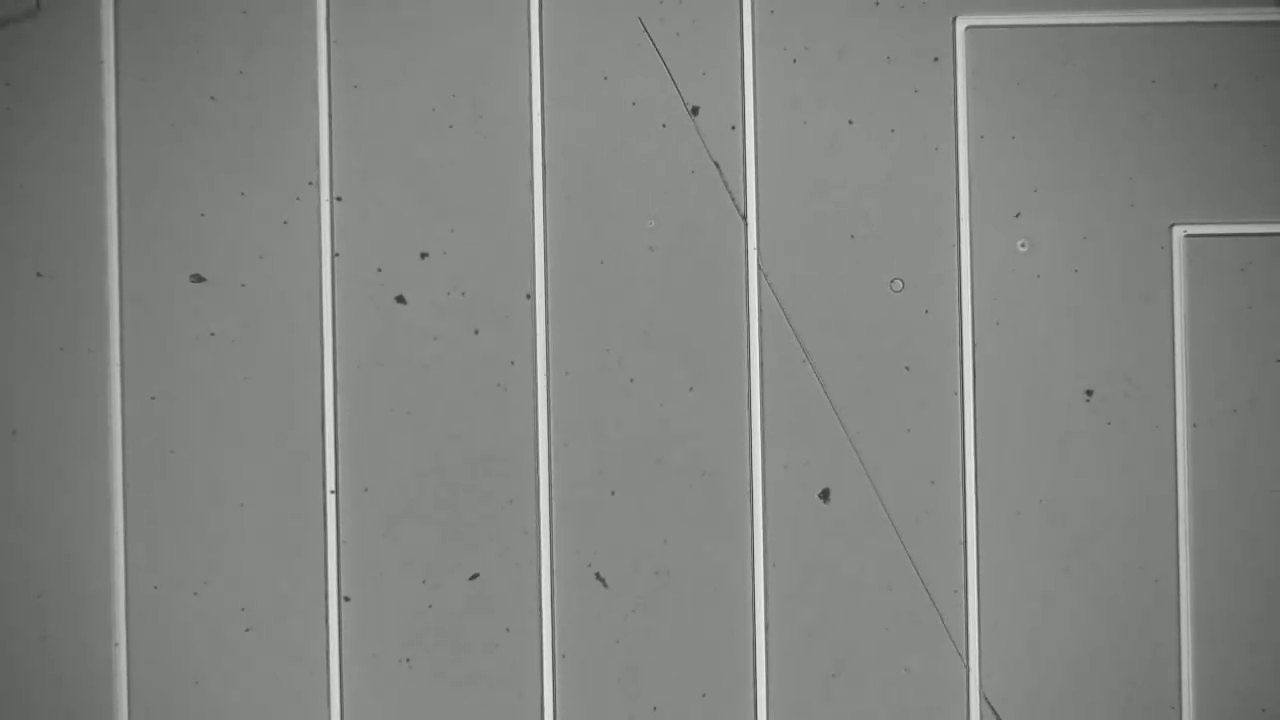scratch: (635, 12, 1010, 720)
